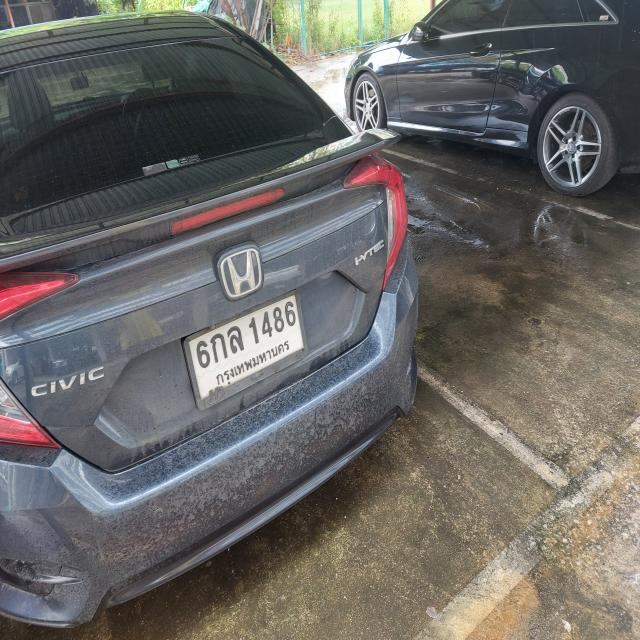license_plate: (180, 286, 309, 413)
